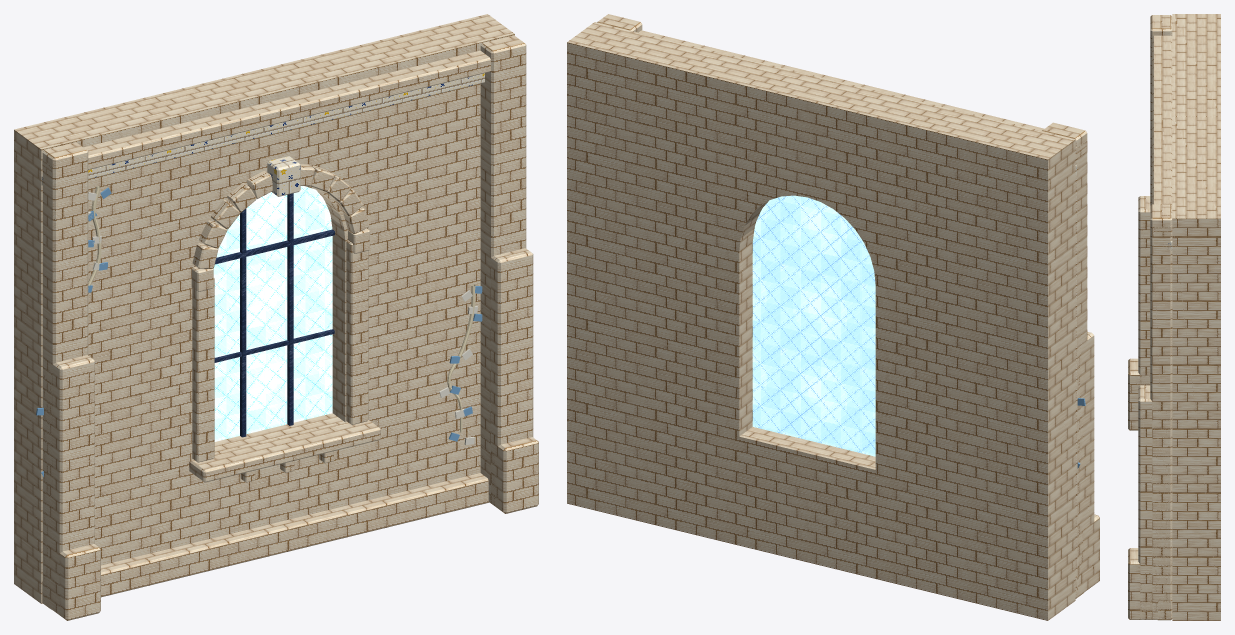
The model's file is tower_wall_bay.glb.
The picture shows the model from 3 angles, left to right: view 1: azimuth 30°, elevation 25°; view 2: azimuth 150°, elevation 25°; view 3: azimuth 270°, elevation 25°; orthographic projection. The views are drawn at different scales.
Visible parts, largest first — view 1: TowerWallBay; view 2: TowerWallBay; view 3: TowerWallBay.
Part boxes in pixels (x1=…): TowerWallBay: x1=14, y1=14, x2=538, y2=620; TowerWallBay: x1=567, y1=14, x2=1099, y2=620; TowerWallBay: x1=1128, y1=14, x2=1220, y2=620.
Bounding box in the file's own units: 12.18 × 11 × 2.3.
7 materials, 4 textured.
